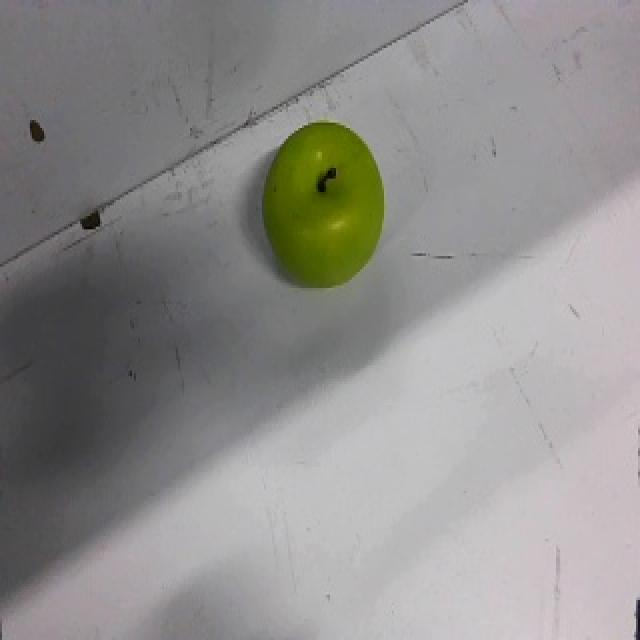apple: (262, 120, 386, 288)
